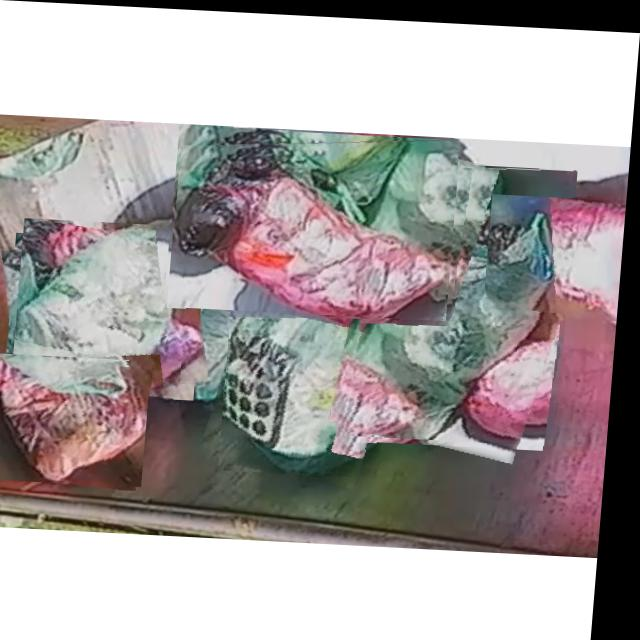general_trashbag: (178, 137, 454, 313), (0, 353, 154, 480), (493, 190, 622, 312)
other_trashbag: (360, 161, 575, 434), (230, 248, 394, 472), (21, 225, 195, 391)
